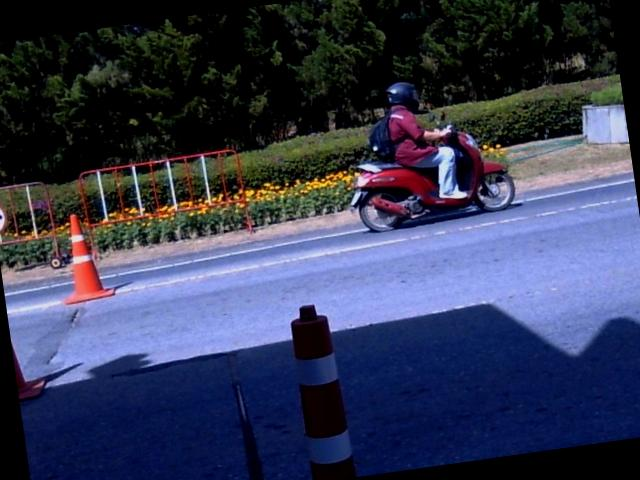helmet: (385, 81, 419, 112)
motor: (350, 126, 514, 231)
person: (385, 83, 466, 198)
